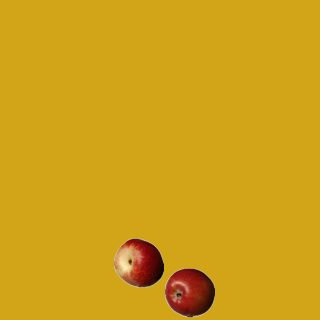Apple Braeburn: (164, 267, 214, 317)
Nectarine: (113, 237, 163, 287)
